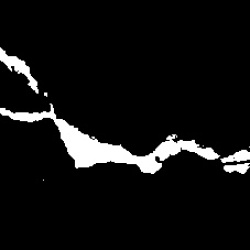crack: (4, 104, 219, 174), (1, 48, 38, 93), (220, 150, 249, 161), (224, 164, 249, 174)
